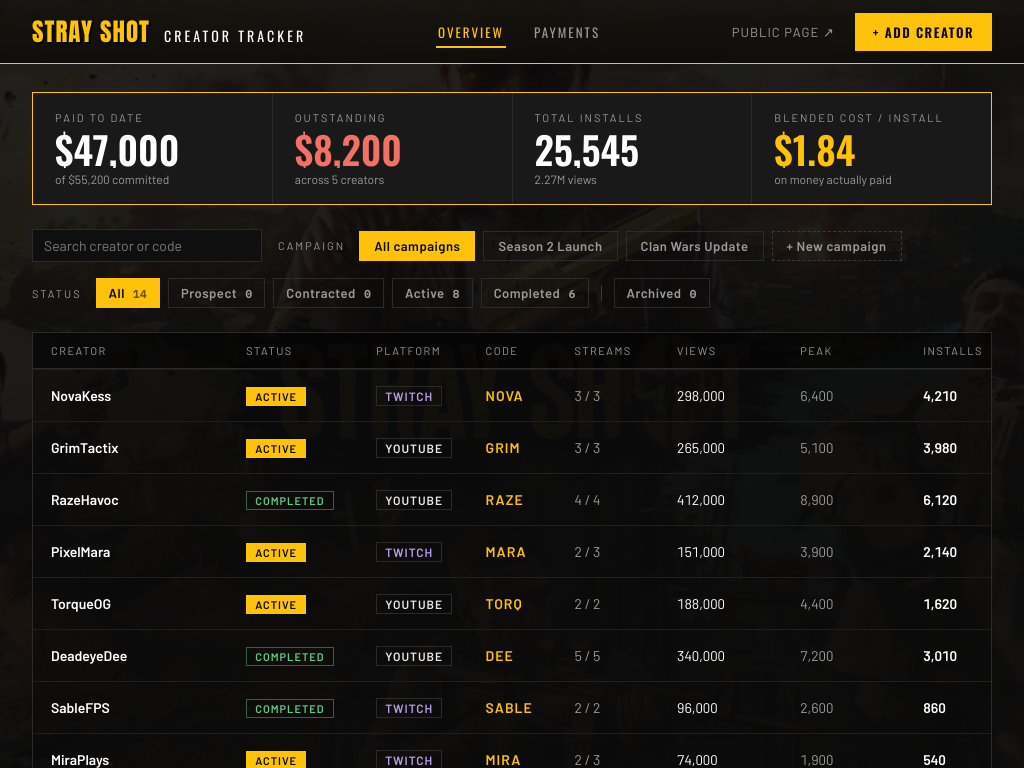
Test: the ledger › totals what was paid, to the dollar the rest of the app agrees on
Click the button "Payments" at (567, 32), box [532,16,602,48]
(page scrolled)
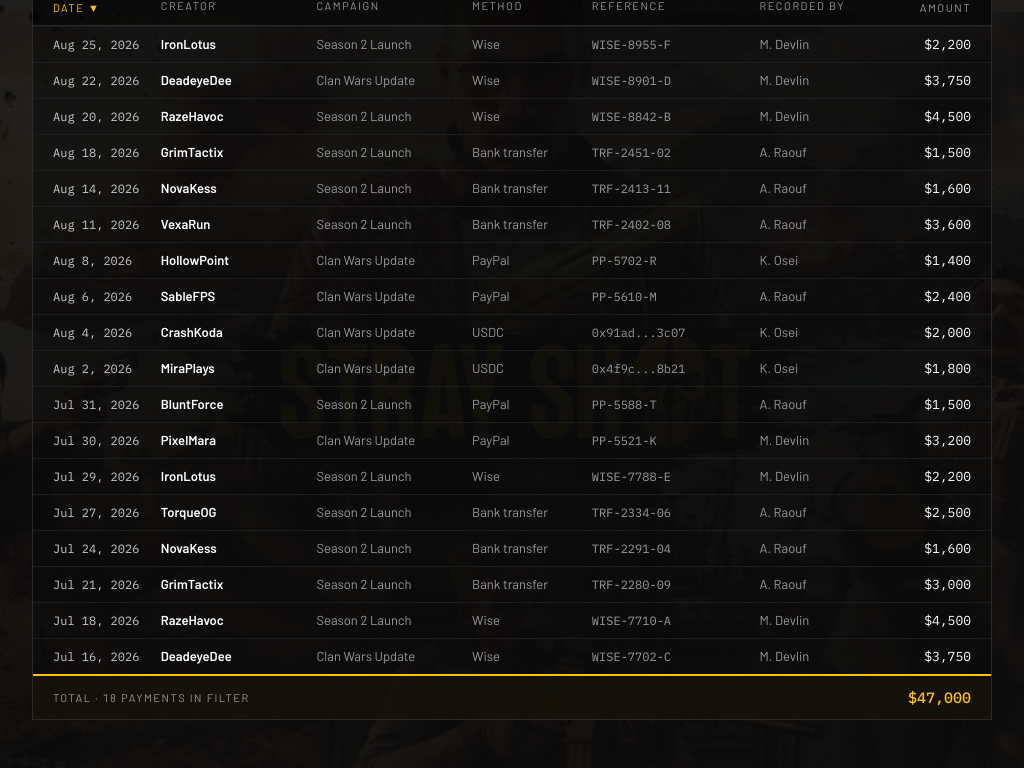
Expected: the text "$47,000" is shown, [883,675,991,719]
Expected: the column heading "Total · 18 payments in filter" is shown, [33,675,883,719]
